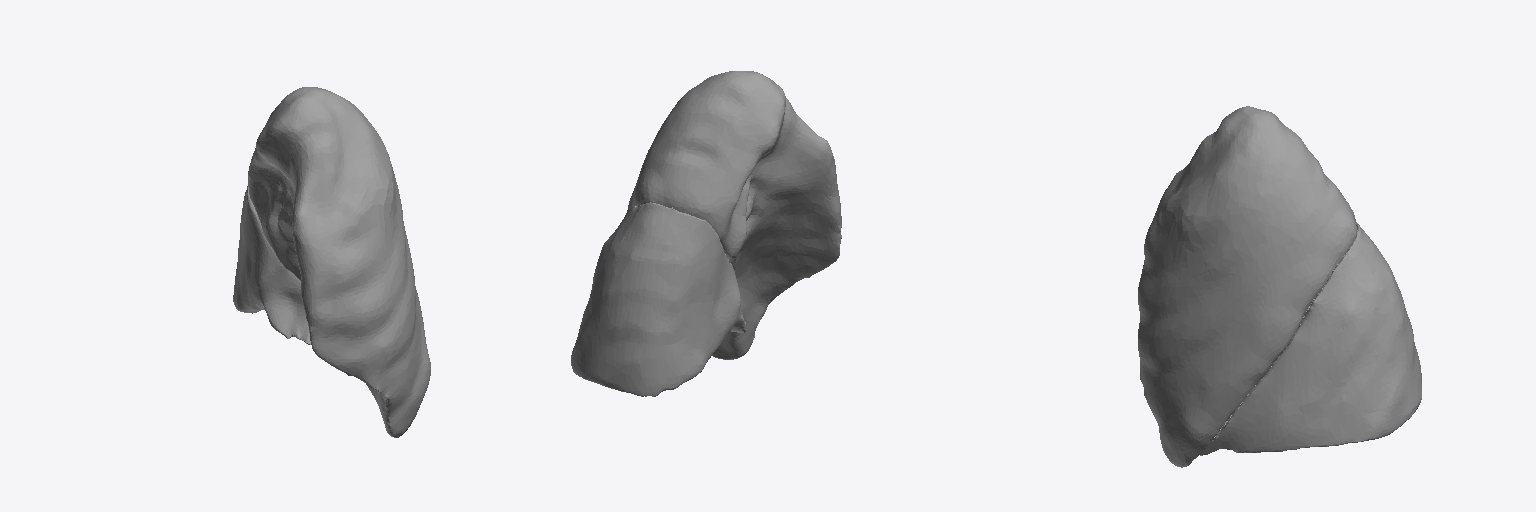
The model's file is bronch_rot_only_coarse.obj.
3 views of the same model, side by side, from view 1: azimuth 30°, elevation 25°; view 2: azimuth 150°, elevation 25°; view 3: azimuth 270°, elevation 25° (orthographic).
Visible parts, largest first — view 1: lungs_rot_right; view 2: lungs_rot_right; view 3: lungs_rot_right.
Boxes of the visible parts, box(x1,y1,x2,y2) form: lungs_rot_right: box(233, 87, 430, 437); lungs_rot_right: box(571, 71, 841, 396); lungs_rot_right: box(1138, 106, 1421, 467).
Bounding box in the file's own units: 2.9 × 2.88 × 2.27.